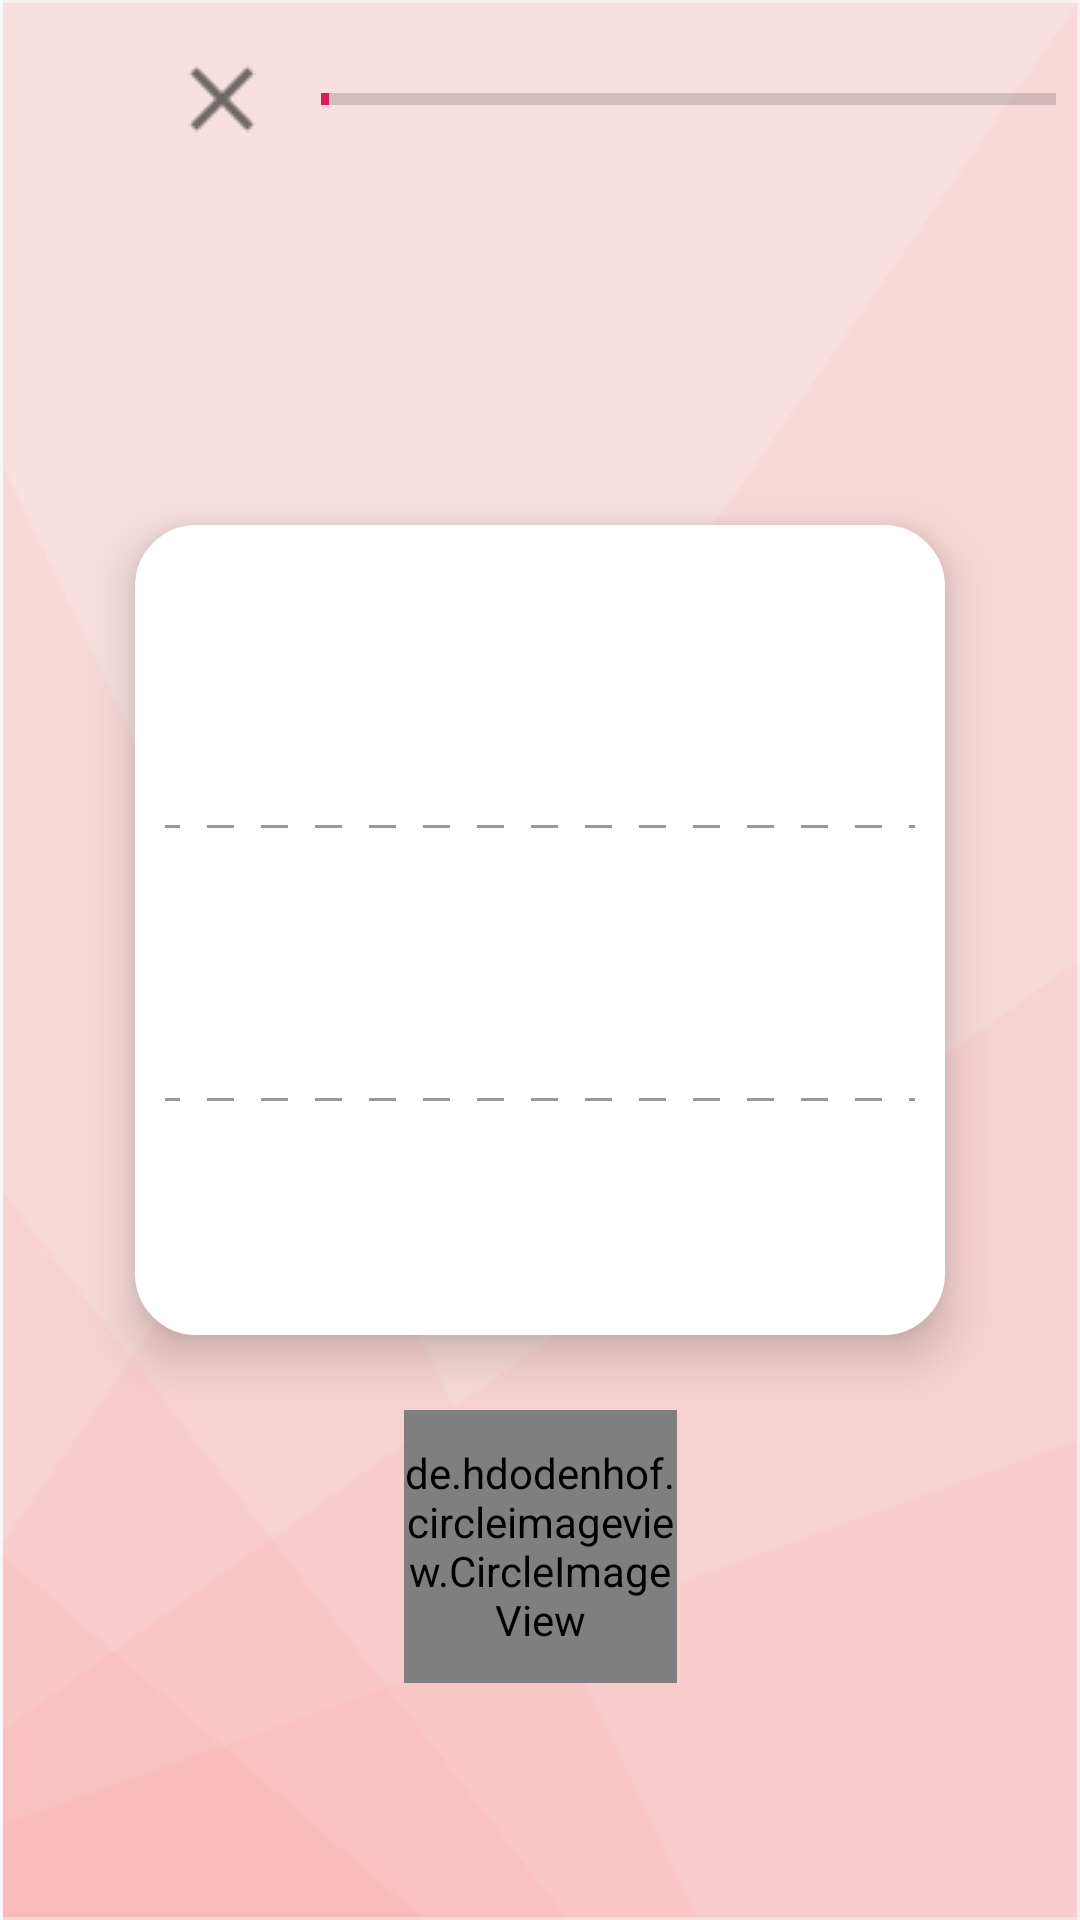

Icons on this 1080px x 1920px Android screen, each with its box as (x1, y1, x2, y2):
close fragment card: (190, 67, 254, 131)
